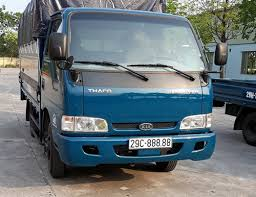Car number plates: (128, 137, 172, 148)
